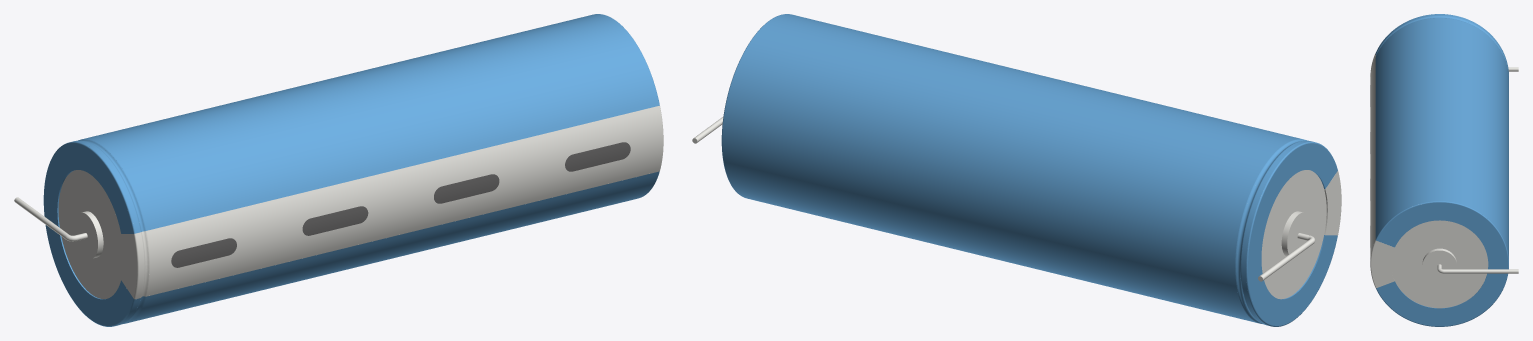
The model's file is CP_Axial_L93.0mm_D29.0mm_P100.00mm_Horizontal.glb.
3 renders of one model, left to right at view 1: azimuth 30°, elevation 25°; view 2: azimuth 150°, elevation 25°; view 3: azimuth 270°, elevation 25°, orthographic. The views are drawn at different scales.
Parts seen in each view (by area): view 1: Shape_IndexedFaceSet.009, Shape_IndexedFaceSet.069, Shape_IndexedFaceSet.006, Shape_IndexedFaceSet.084, Shape_IndexedFaceSet.028, Shape_IndexedFaceSet.018, Shape_IndexedFaceSet.038, Shape_IndexedFaceSet.048, Shape_IndexedFaceSet.061, Shape_IndexedFaceSet.082, Shape_IndexedFaceSet, Shape_IndexedFaceSet.005 (+1 smaller); view 2: Shape_IndexedFaceSet.009, Shape_IndexedFaceSet.006, Shape_IndexedFaceSet.084, Shape_IndexedFaceSet, Shape_IndexedFaceSet.005, Shape_IndexedFaceSet.061, Shape_IndexedFaceSet.082, Shape_IndexedFaceSet.003; view 3: Shape_IndexedFaceSet.009, Shape_IndexedFaceSet.012, Shape_IndexedFaceSet.079, Shape_IndexedFaceSet.069, Shape_IndexedFaceSet.066, Shape_IndexedFaceSet.077, Shape_IndexedFaceSet.011, Shape_IndexedFaceSet.075, Shape_IndexedFaceSet, Shape_IndexedFaceSet.005, Shape_IndexedFaceSet.002.
Part boxes in pixels (x1,y1,x2,y2): Shape_IndexedFaceSet.009: (82, 14, 659, 323); Shape_IndexedFaceSet.069: (146, 106, 662, 296); Shape_IndexedFaceSet.006: (44, 143, 133, 325); Shape_IndexedFaceSet.084: (58, 170, 123, 299); Shape_IndexedFaceSet.028: (171, 238, 236, 267); Shape_IndexedFaceSet.018: (565, 142, 630, 171); Shape_IndexedFaceSet.038: (302, 206, 368, 235); Shape_IndexedFaceSet.048: (434, 174, 499, 203); Shape_IndexedFaceSet.061: (121, 234, 137, 297); Shape_IndexedFaceSet.082: (74, 212, 97, 258); Shape_IndexedFaceSet: (72, 140, 140, 325); Shape_IndexedFaceSet.005: (79, 140, 144, 323); Shape_IndexedFaceSet.009: (722, 14, 1302, 322); Shape_IndexedFaceSet.006: (1248, 143, 1337, 325); Shape_IndexedFaceSet.084: (1261, 170, 1326, 299); Shape_IndexedFaceSet: (1241, 140, 1313, 325); Shape_IndexedFaceSet.005: (1236, 140, 1305, 323); Shape_IndexedFaceSet.061: (1325, 171, 1341, 235); Shape_IndexedFaceSet.082: (1287, 212, 1310, 258); Shape_IndexedFaceSet.003: (1246, 142, 1337, 326); Shape_IndexedFaceSet.009: (1375, 18, 1508, 258); Shape_IndexedFaceSet.012: (1376, 202, 1507, 326); Shape_IndexedFaceSet.079: (1391, 220, 1488, 308); Shape_IndexedFaceSet.069: (1370, 57, 1375, 260); Shape_IndexedFaceSet.066: (1371, 241, 1394, 287); Shape_IndexedFaceSet.077: (1422, 250, 1456, 281); Shape_IndexedFaceSet.011: (1376, 201, 1508, 326); Shape_IndexedFaceSet.075: (1444, 269, 1518, 273); Shape_IndexedFaceSet: (1375, 14, 1508, 72); Shape_IndexedFaceSet.005: (1376, 16, 1506, 63); Shape_IndexedFaceSet.002: (1375, 16, 1508, 75).
Bounding box in the file's own units: 39.72 × 11.42 × 12.21.
